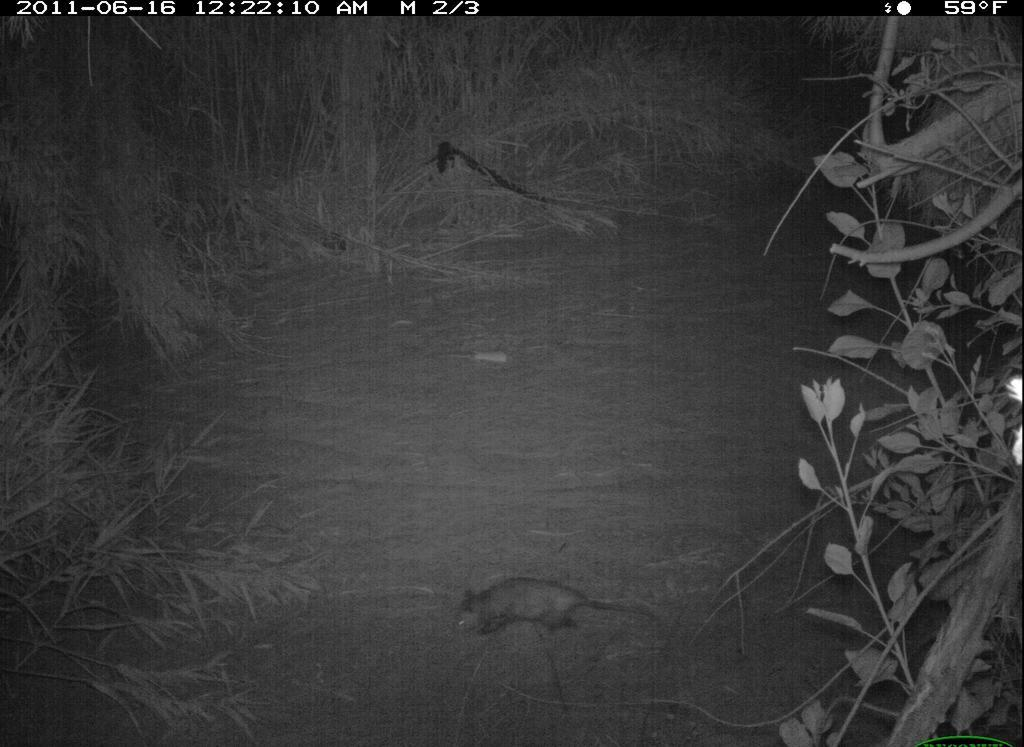opossum: (451, 571, 665, 651)
